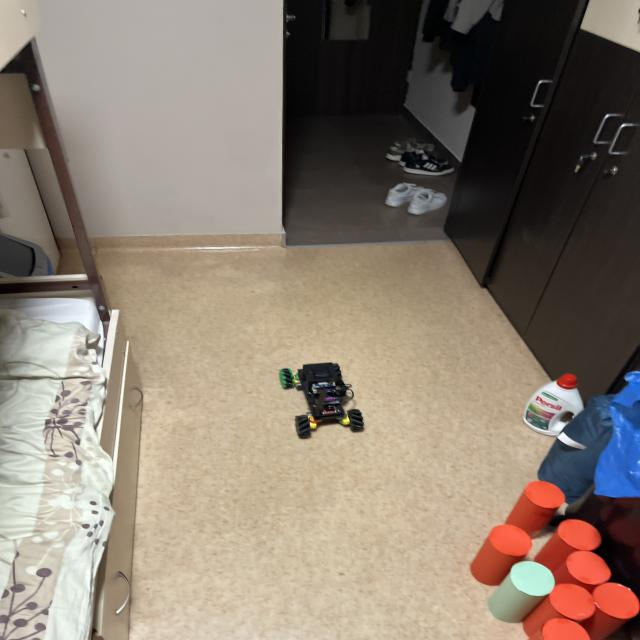robot: (279, 363, 364, 439)
